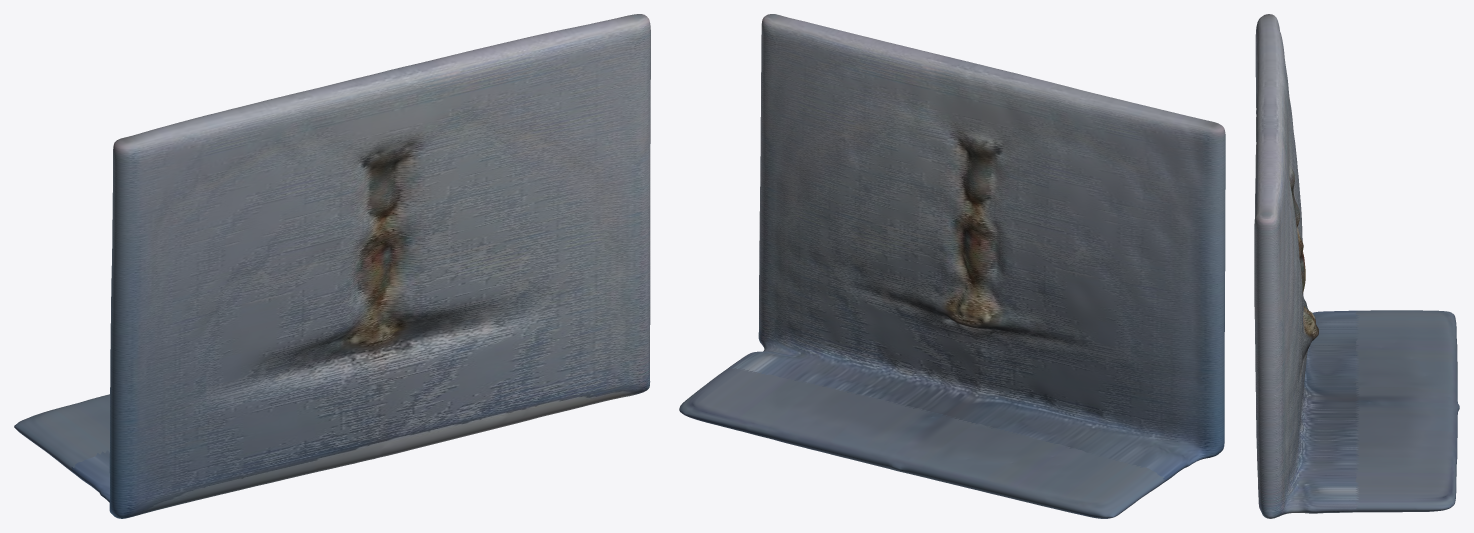
Rendered from kfl-2294.glb.
3 views of the same model, side by side, from view 1: azimuth 30°, elevation 25°; view 2: azimuth 150°, elevation 25°; view 3: azimuth 270°, elevation 25° (orthographic). The views are drawn at different scales.
Parts seen in each view (by area): view 1: geometry_0; view 2: geometry_0; view 3: geometry_0.
Boxes of the visible parts, x1,y1,x2,y2 form: geometry_0: (14,14,650,518); geometry_0: (679,14,1225,518); geometry_0: (1254,14,1459,518).
Bounding box in the file's own units: 0.9946 × 0.6786 × 0.4138.
1 material, 1 textured.
